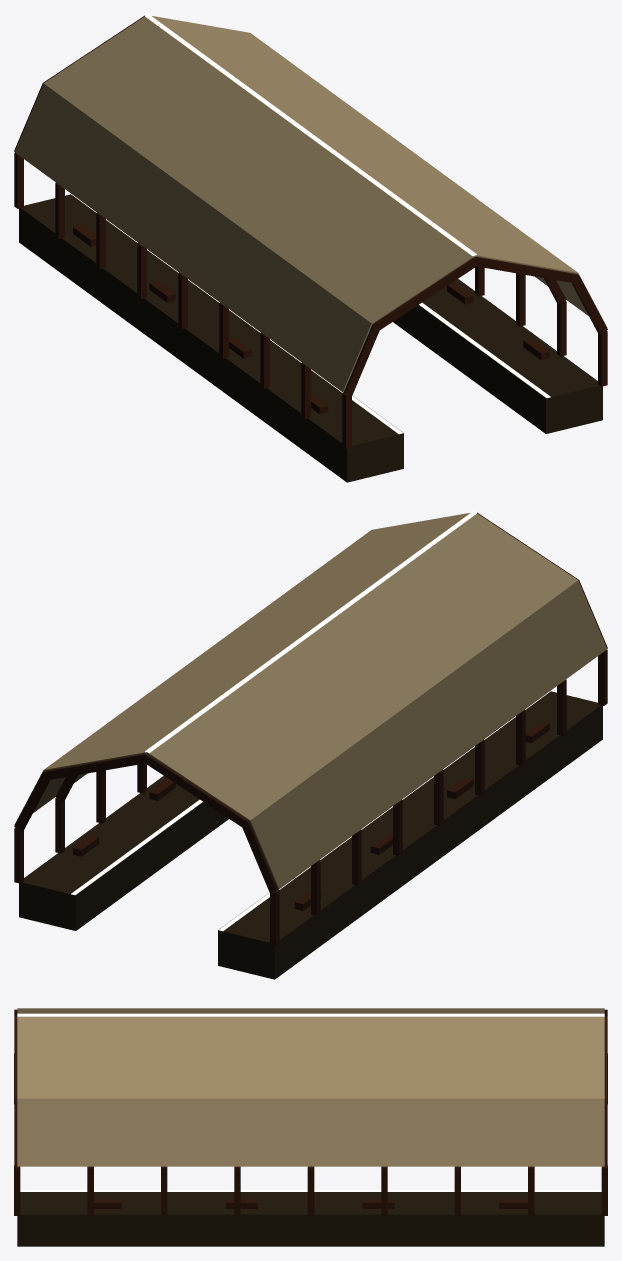
File: shaddai_station_meadow_v01.glb
The picture shows the model from 3 angles, top to bottom: view 1: azimuth 30°, elevation 25°; view 2: azimuth 150°, elevation 25°; view 3: azimuth 270°, elevation 25°; orthographic projection. The views are drawn at different scales.
Visible parts, largest first — view 1: shaddai_station_meadow; view 2: shaddai_station_meadow; view 3: shaddai_station_meadow.
Part boxes in pixels (<box>): shaddai_station_meadow: <box>14,14,607,482</box>; shaddai_station_meadow: <box>14,511,607,979</box>; shaddai_station_meadow: <box>14,1008,607,1246</box>.
Bounding box in the file's own units: 18.65 × 13.22 × 40.44.
